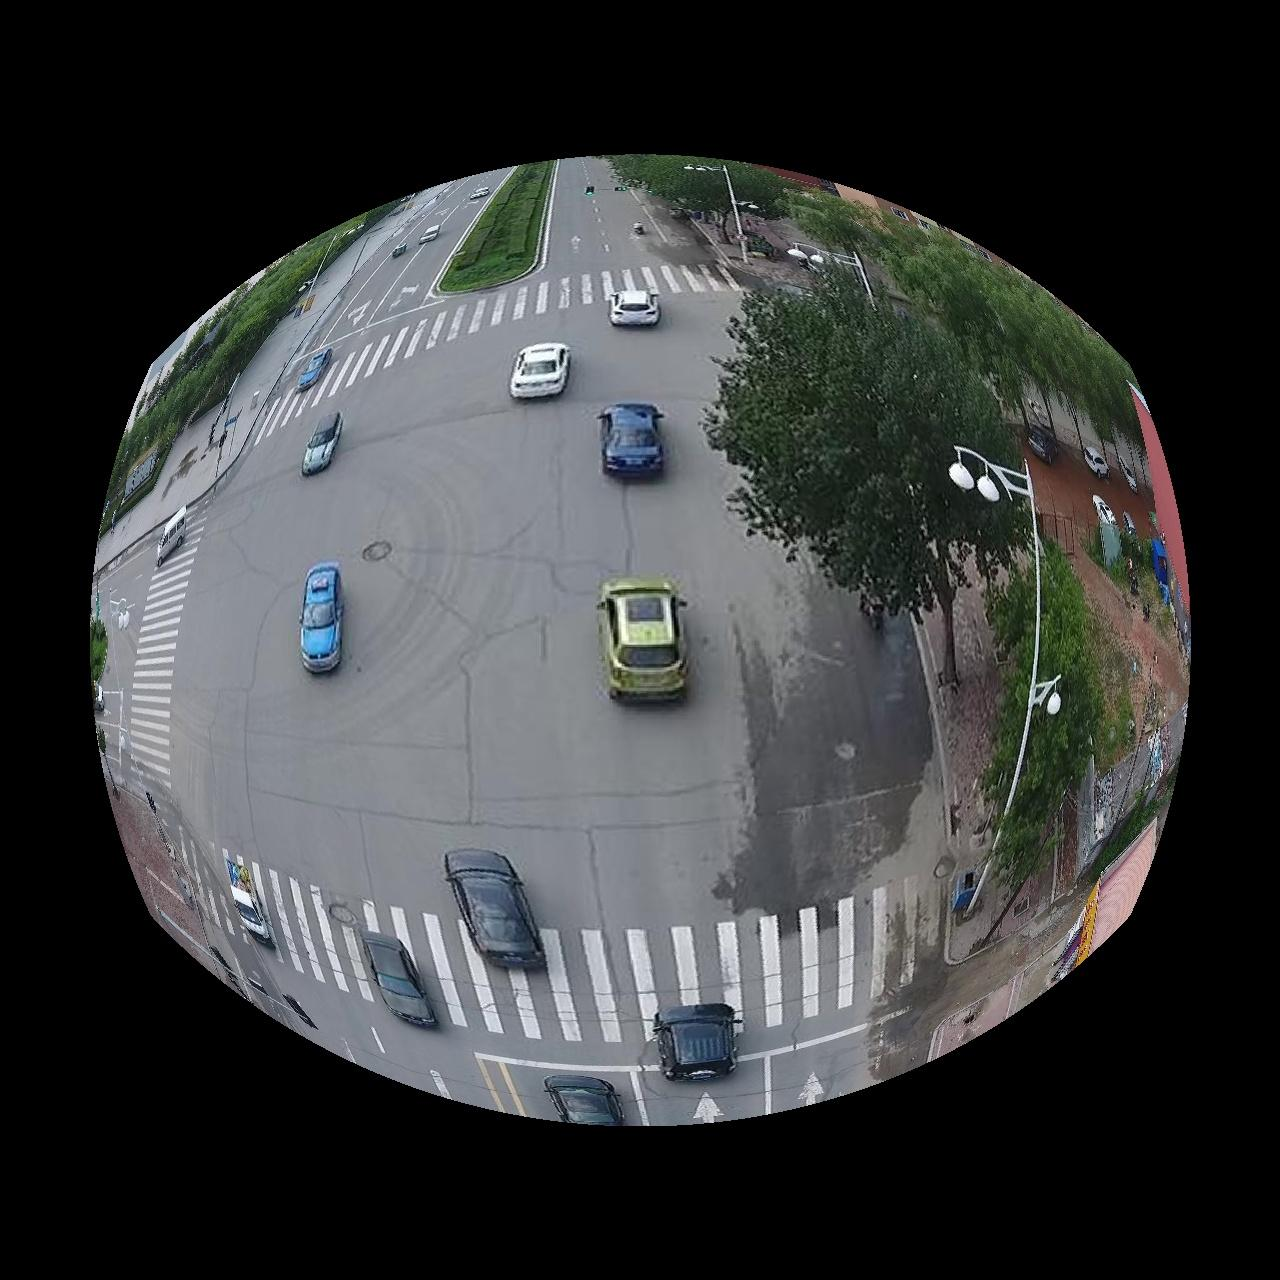cars: (447, 852, 544, 969), (600, 579, 687, 700), (362, 934, 437, 1028), (654, 1005, 740, 1082), (300, 561, 343, 673), (600, 403, 665, 475), (225, 857, 272, 946), (545, 1077, 625, 1128), (510, 342, 570, 399), (300, 411, 342, 476), (610, 288, 661, 325), (295, 347, 331, 390)
trees: (704, 261, 1030, 685)
